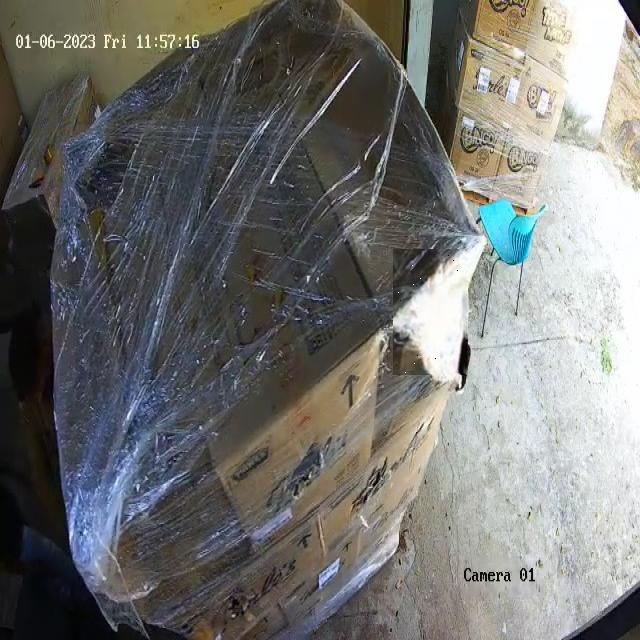squeeze: (394, 249, 465, 373)
